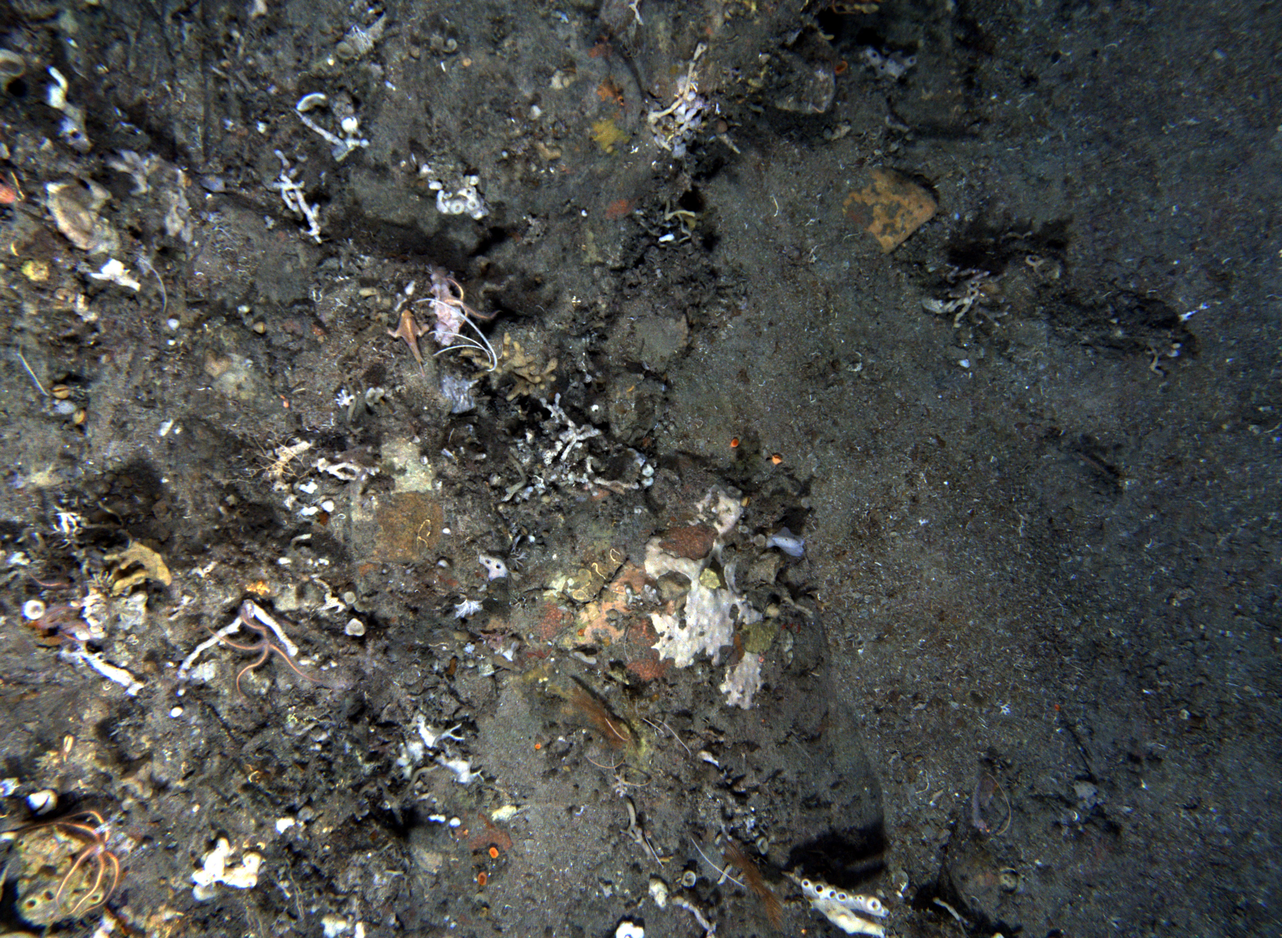Brachionichthyidae: (384, 307, 430, 378)
